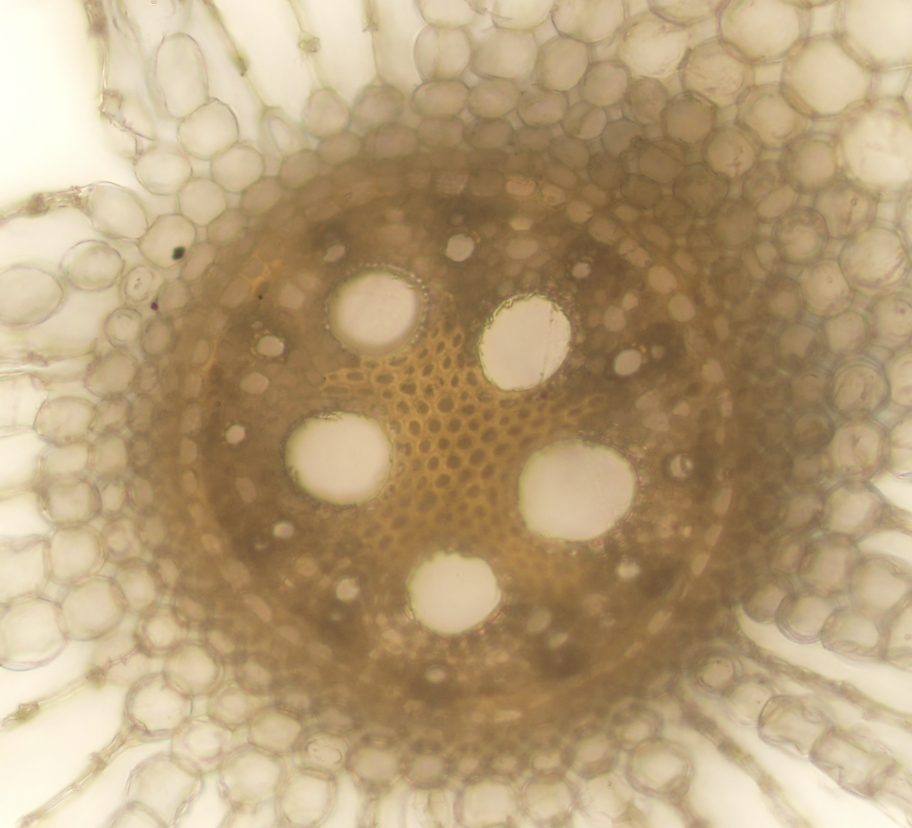lm: (518, 435, 636, 540), (283, 409, 393, 509), (478, 290, 571, 392), (323, 263, 426, 355), (407, 549, 501, 632)
